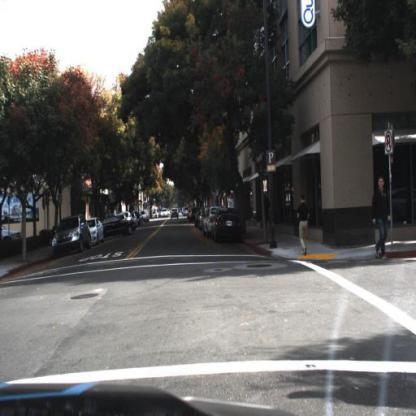car: (51, 213, 93, 259), (211, 208, 244, 244), (103, 217, 137, 241), (1, 223, 22, 252), (90, 216, 105, 246), (204, 211, 216, 238), (170, 208, 181, 222)
pedestrian: (371, 175, 394, 264), (372, 178, 391, 266), (297, 193, 314, 257), (262, 196, 275, 240), (259, 195, 271, 234)
